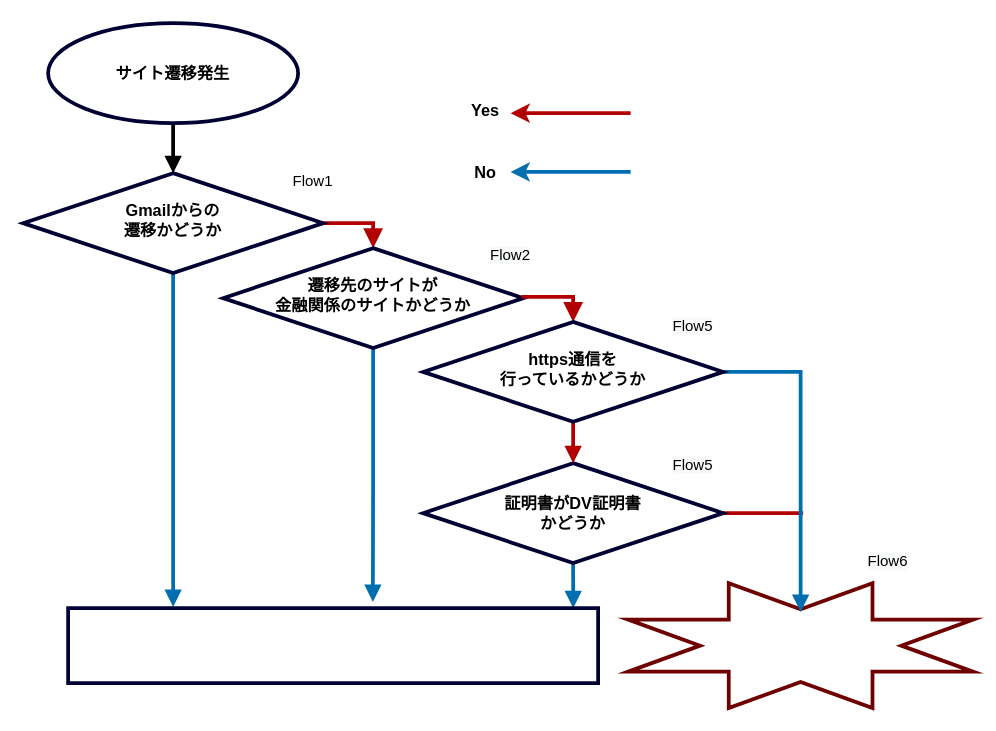
Image size: 996x731. Some labels were removed from this diagram. Here are the shapes that lost their labels. From the top down, the centre of each, then its label:
the point at 332,645: 処理を終了
the point at 800,645: 警告を表示
